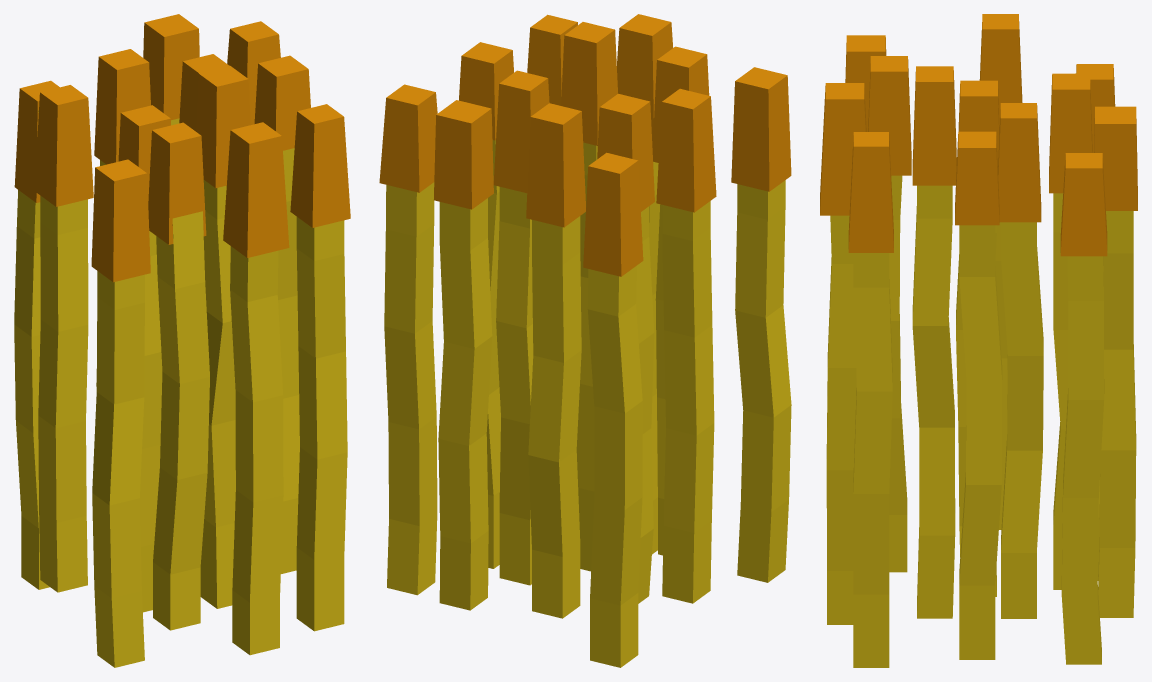
File: siv.fbx
3 views of the same model, side by side, from view 1: azimuth 30°, elevation 25°; view 2: azimuth 150°, elevation 25°; view 3: azimuth 270°, elevation 25° (orthographic). The views are drawn at different scales.
Parts seen in each view (by area): view 1: Cube.008, Cube.007, Cube.012, Cube.023, Cube.024, Cube.005, Cube.020, Cube.013, Cube.011, Cube.025, Cube.009, Cube.022 (+10 smaller); view 2: Cube.015, Cube.016, Cube.020, Cube.019, Cube.024, Cube.023, Cube, Cube.025, Cube.018, Cube.021, Cube.022, Cube.017 (+13 smaller); view 3: Cube.011, Cube.005, Cube.008, Cube.015, Cube, Cube.016, Cube.012, Cube.004, Cube.009, Cube.006, Cube.007, Cube.013 (+12 smaller).
Part boxes in pixels (<box>): Cube.008: <box>296,217,347,631</box>; Cube.007: <box>153,211,209,630</box>; Cube.012: <box>230,246,283,655</box>; Cube.023: <box>38,195,88,592</box>; Cube.024: <box>92,271,144,667</box>; Cube.005: <box>200,180,235,608</box>; Cube.020: <box>14,110,49,589</box>; Cube.013: <box>223,122,289,257</box>; Cube.011: <box>277,148,299,573</box>; Cube.025: <box>91,159,150,282</box>; Cube.009: <box>290,104,350,227</box>; Cube.022: <box>34,85,93,206</box>; Cube.015: <box>384,182,437,595</box>; Cube.016: <box>438,198,492,610</box>; Cube.020: <box>587,266,642,667</box>; Cube.019: <box>528,216,581,618</box>; Cube.024: <box>735,180,791,582</box>; Cube.023: <box>662,201,714,603</box>; Cube: <box>496,187,533,585</box>; Cube.025: <box>731,67,791,191</box>; Cube.018: <box>526,103,585,227</box>; Cube.021: <box>583,152,643,276</box>; Cube.022: <box>656,88,716,212</box>; Cube.017: <box>434,100,493,209</box>; Cube.011: <box>959,225,1002,659</box>; Cube.005: <box>912,185,955,618</box>; Cube.008: <box>853,253,892,667</box>; Cube.015: <box>1061,256,1104,664</box>; Cube: <box>1001,222,1043,618</box>; Cube.016: <box>1098,211,1136,617</box>; Cube.012: <box>826,215,856,624</box>; Cube.004: <box>912,66,956,185</box>; Cube.009: <box>848,132,893,252</box>; Cube.006: <box>998,103,1041,222</box>; Cube.007: <box>889,175,907,572</box>; Cube.013: <box>820,83,866,215</box>.
Bounding box in the file's own units: 76.24 × 140 × 73.05.
